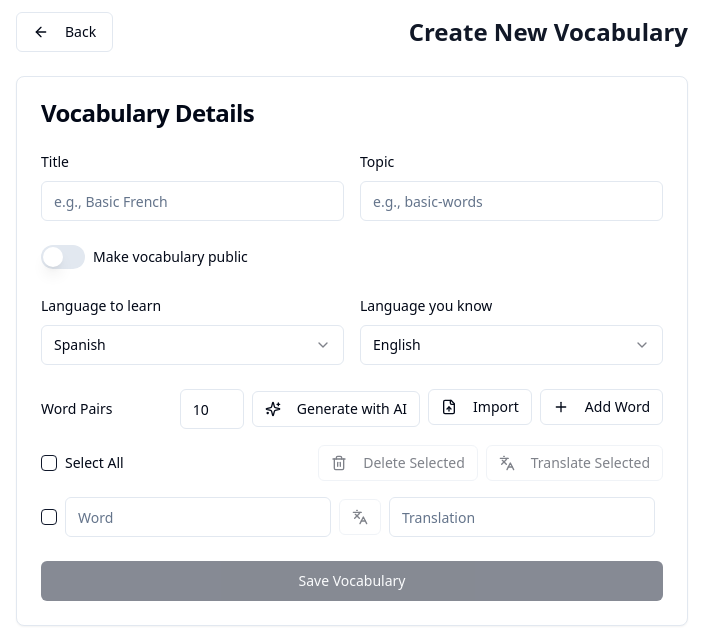
CreateVocabulary Component › AI Word Generation › successfully generates word pairs with AI
The width and height of the screenshot is (705, 643).
Type "Animals" into the field labelled "Topic" at (512, 201), box [360,181,663,221]
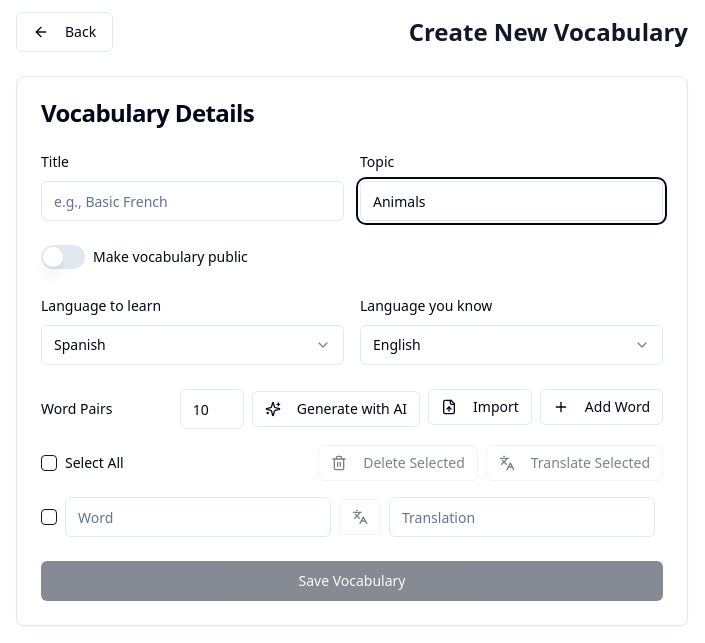
Click the button "Generate with AI" at (336, 409), box [252,391,420,427]
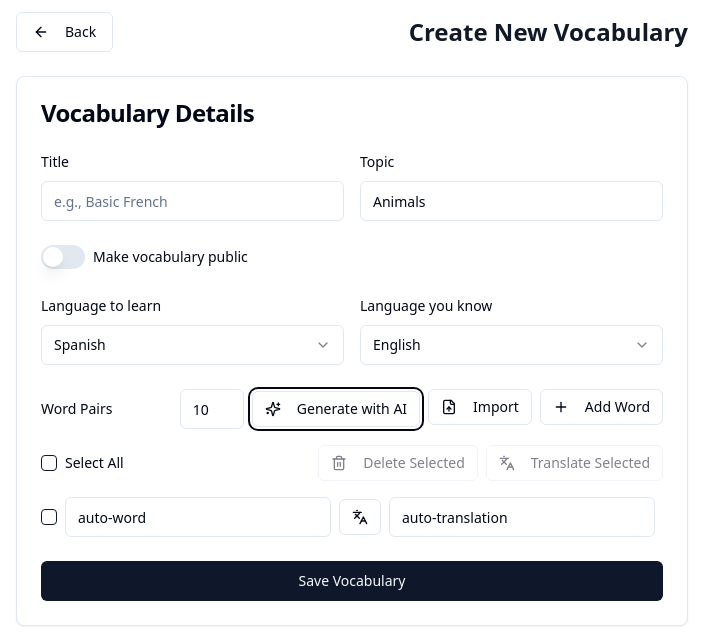
Expected: the 1st field with placeholder "Word" holds "auto-word", [65,497,331,537]
Expected: the 2nd field with placeholder "Translation" holds "auto-translation", [389,497,655,537]
